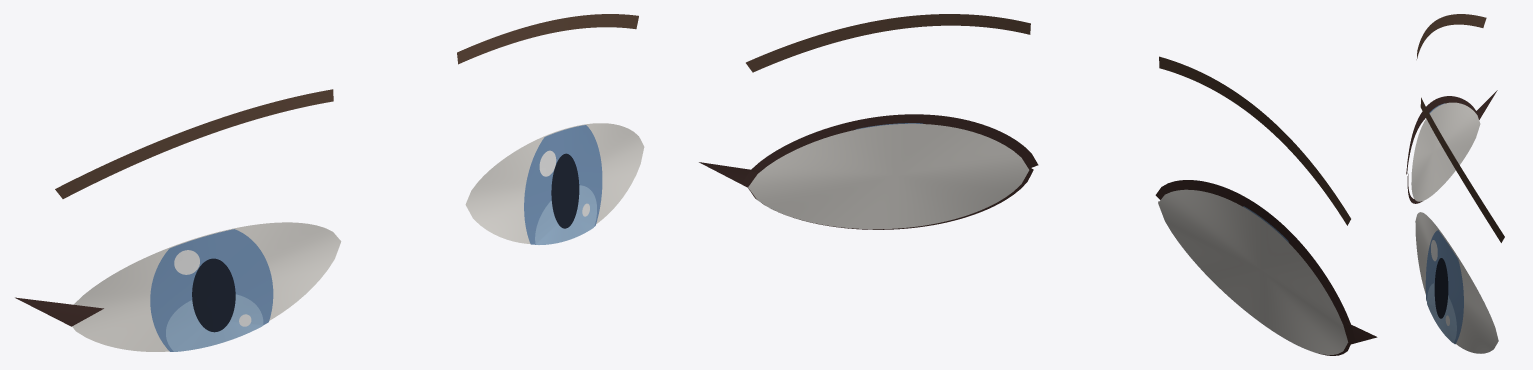
File: male_eyes_ref07.glb
3 renders of one model, left to right at view 1: azimuth 30°, elevation 25°; view 2: azimuth 150°, elevation 25°; view 3: azimuth 270°, elevation 25°, orthographic. The views are drawn at different scales.
Visible parts, largest first — view 1: Eye_White_-1, Eye_White_1, Eye_Iris_-1, Eye_Iris_1, Eyebrow_-1, Eye_Iris_Light_-1, Eye_Pupil_-1, Eyebrow_1, Eye_Iris_Light_1, Eye_Pupil_1, Eye_LashWing_-1, Eye_Glint_-1_0; view 2: Eye_White_1, Eye_White_-1, Eyebrow_1, Eye_UpperLid_1, Eye_UpperLid_-1, Eyebrow_-1; view 3: Eye_White_-1, Eye_White_1, Eye_Iris_1, Eyebrow_1, Eye_Iris_Light_1, Eyebrow_-1, Eye_Pupil_1, Eye_UpperLid_-1, Eye_LashWing_-1, Eye_Glint_1_0.
Part boxes in pixels (x1,y1,x2,y2): Eye_White_-1: (72, 222, 341, 351); Eye_White_1: (465, 123, 644, 243); Eye_Iris_-1: (150, 229, 273, 351); Eye_Iris_1: (524, 125, 602, 244); Eyebrow_-1: (55, 89, 333, 198); Eye_Iris_Light_-1: (166, 294, 263, 351); Eye_Pupil_-1: (192, 258, 235, 332); Eyebrow_1: (457, 14, 638, 64); Eye_Iris_Light_1: (535, 185, 596, 244); Eye_Pupil_1: (551, 153, 579, 228); Eye_LashWing_-1: (15, 297, 103, 326); Eye_Glint_-1_0: (174, 250, 199, 274); Eye_White_1: (748, 123, 1029, 229); Eye_White_-1: (1158, 189, 1348, 354); Eyebrow_1: (746, 14, 1030, 72); Eye_UpperLid_1: (743, 114, 1038, 184); Eye_UpperLid_-1: (1155, 180, 1355, 339); Eyebrow_-1: (1159, 56, 1350, 225); Eye_White_-1: (1411, 102, 1480, 201); Eye_White_1: (1415, 212, 1498, 353); Eye_Iris_1: (1425, 230, 1463, 344); Eyebrow_1: (1420, 97, 1504, 242); Eye_Iris_Light_1: (1427, 283, 1456, 343); Eyebrow_-1: (1416, 14, 1486, 59); Eye_Pupil_1: (1434, 258, 1448, 318); Eye_UpperLid_-1: (1406, 96, 1478, 174); Eye_LashWing_-1: (1475, 90, 1497, 119); Eye_Glint_1_0: (1431, 240, 1437, 261).
Bounding box in the file's own units: 0.4435 × 0.156 × 0.0799.
